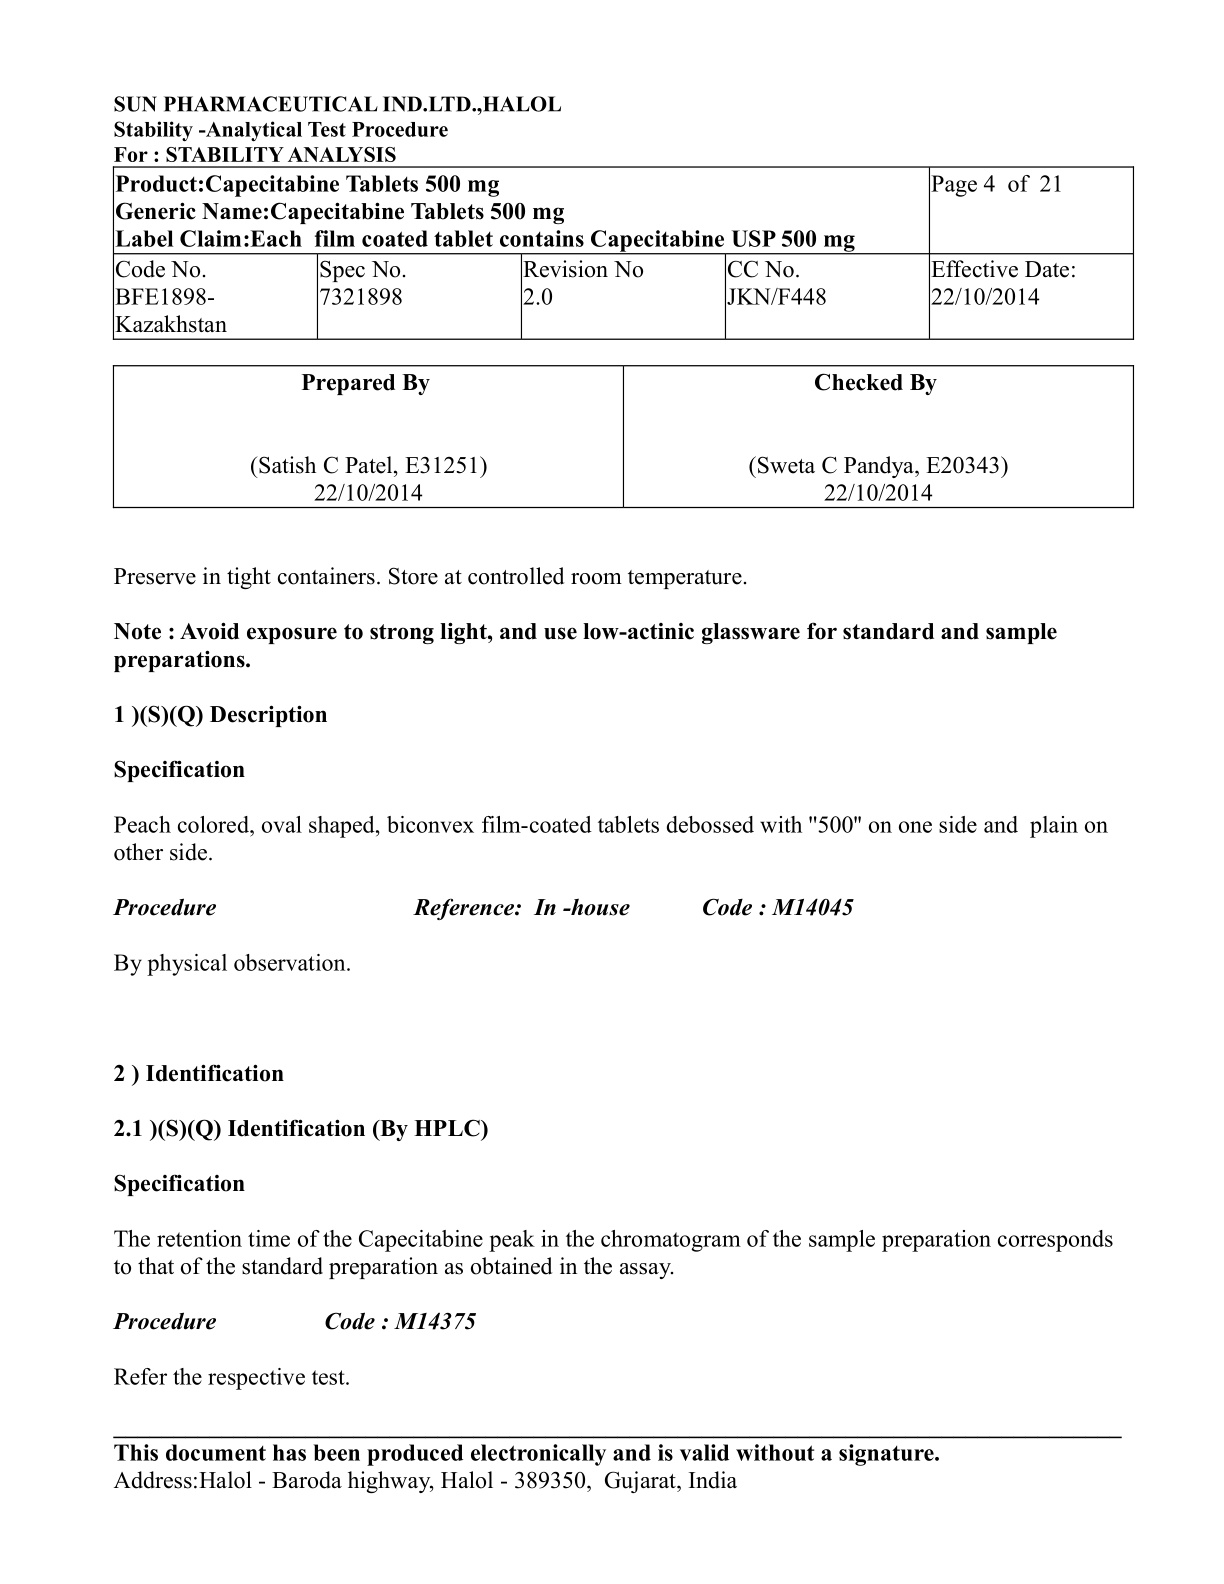full_lined: (112, 364, 1135, 510)
merged_cells: (112, 165, 1135, 341)
